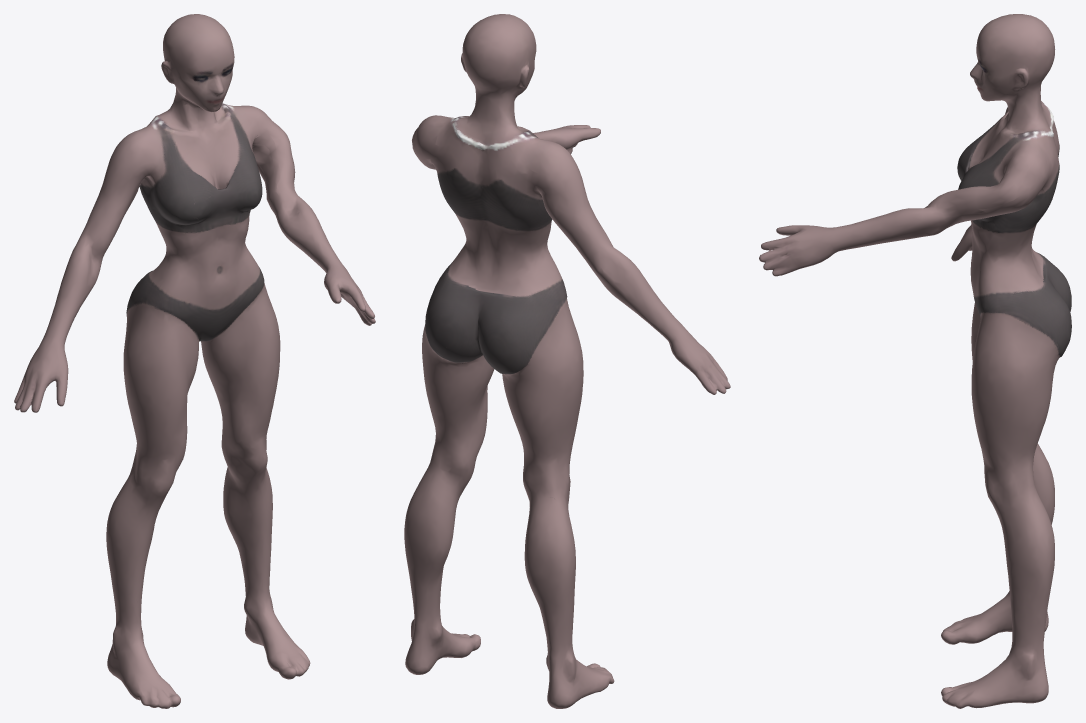
Rendered from 03-UpperArmR-60-child0-twist0-candidate.glb.
3 views of the same model, side by side, from view 1: azimuth 30°, elevation 25°; view 2: azimuth 150°, elevation 25°; view 3: azimuth 270°, elevation 25° (orthographic). The views are drawn at different scales.
Visible parts, largest first — view 1: candidate; view 2: candidate; view 3: candidate.
Part boxes in pixels (bbox=[...]): candidate: bbox=[14, 14, 375, 708]; candidate: bbox=[404, 14, 730, 708]; candidate: bbox=[759, 14, 1071, 708].
Bounding box in the file's own units: 0.4626 × 1 × 0.4345.
1 material, 1 textured.
